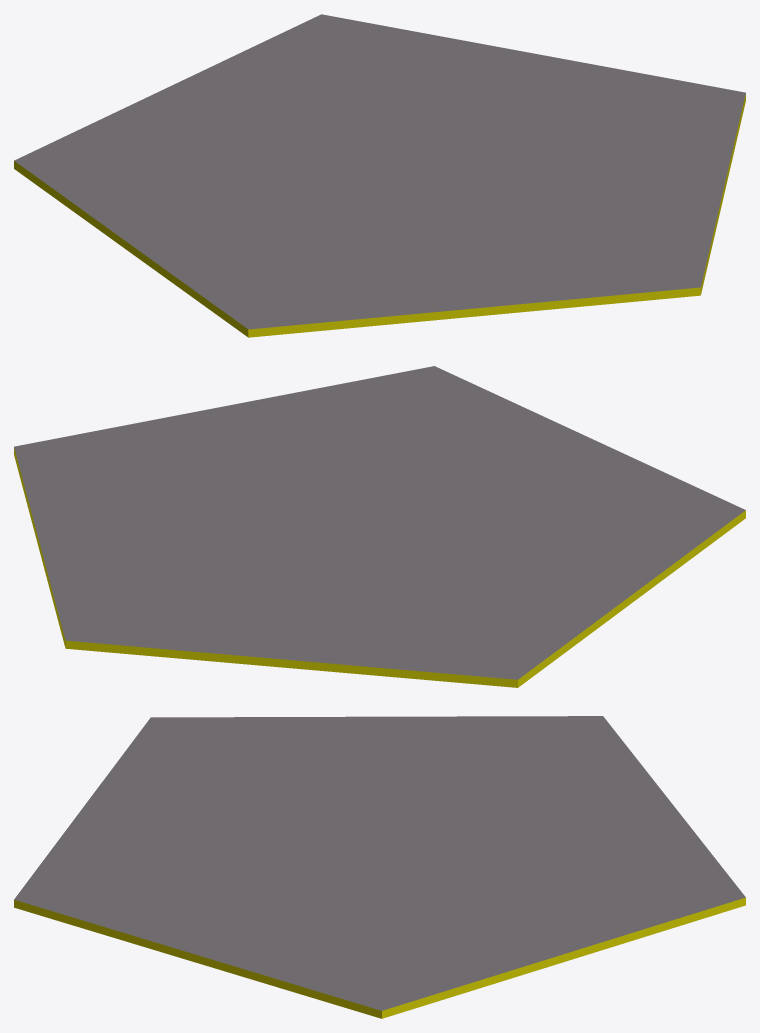
The picture shows the model from 3 angles, top to bottom: view 1: azimuth 30°, elevation 25°; view 2: azimuth 150°, elevation 25°; view 3: azimuth 270°, elevation 25°; orthographic projection. The views are drawn at different scales.
Visible parts, largest first — view 1: Top, Sides; view 2: Top, Sides; view 3: Top, Sides.
Part boxes in pixels (left/top/right/bottom): Top: left=14, top=14, right=745, bottom=329; Sides: left=14, top=93, right=745, bottom=337; Top: left=14, top=366, right=745, bottom=679; Sides: left=14, top=447, right=745, bottom=687; Top: left=14, top=716, right=745, bottom=1010; Sides: left=14, top=897, right=745, bottom=1018.
Bounding box in the file's own units: 0.9972 × 1.05 × 0.0126.
